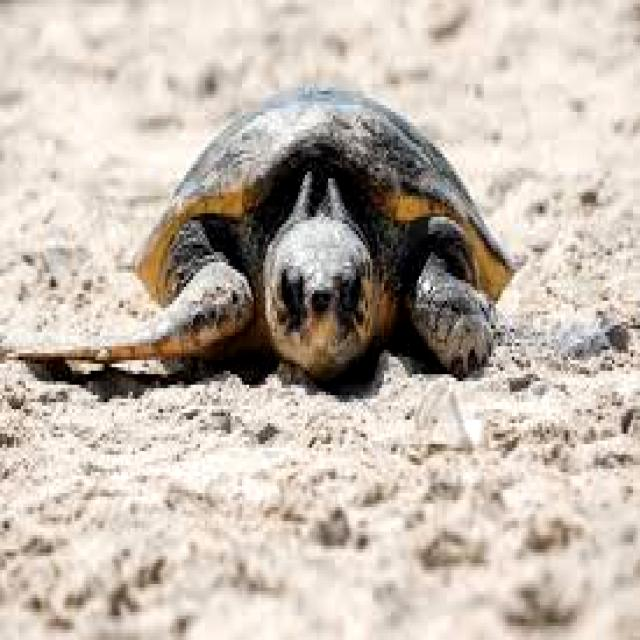Sea turtle: (0, 42, 566, 420)
